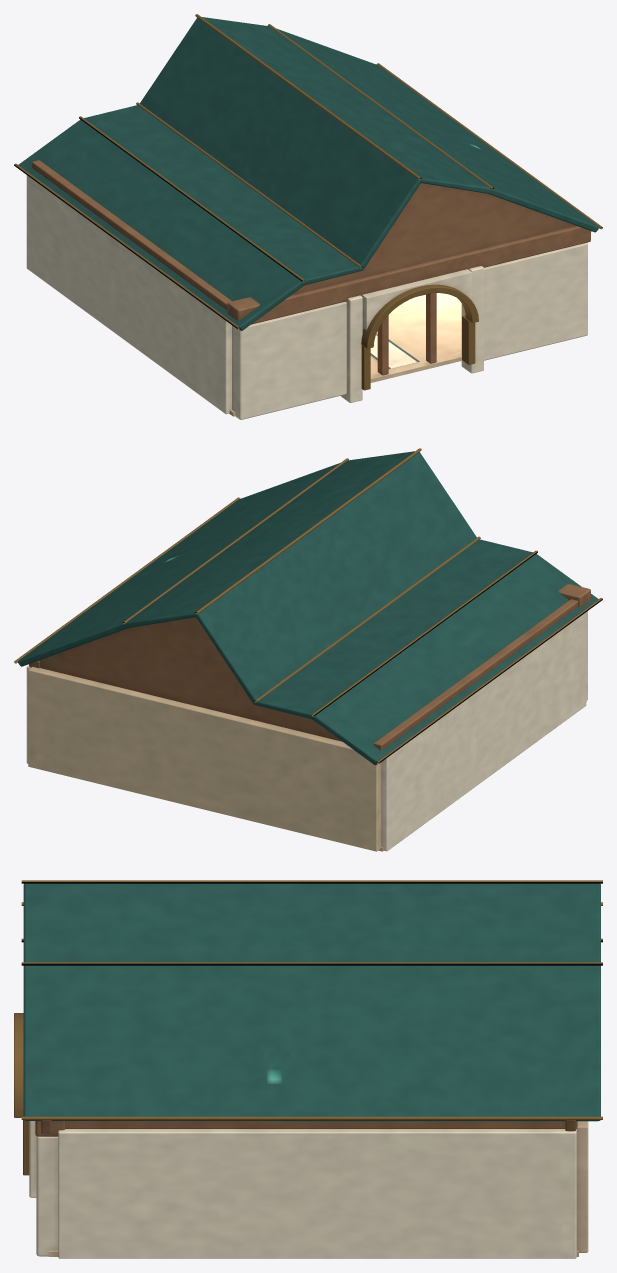
Rendered from foyer.glb.
3 renders of one model, top to bottom at view 1: azimuth 30°, elevation 25°; view 2: azimuth 150°, elevation 25°; view 3: azimuth 270°, elevation 25°, orthographic. The views are drawn at different scales.
Parts seen in each view (by area): view 1: VIS · House; view 2: VIS · House; view 3: VIS · House.
Boxes of the visible parts, x1=… form: VIS · House: x1=14, y1=14, x2=602, y2=419; VIS · House: x1=14, y1=448, x2=602, y2=851; VIS · House: x1=14, y1=880, x2=602, y2=1258.
Size of the model in its own units: 12.16 by 6.74 by 13.06.
8 materials, 8 textured.
